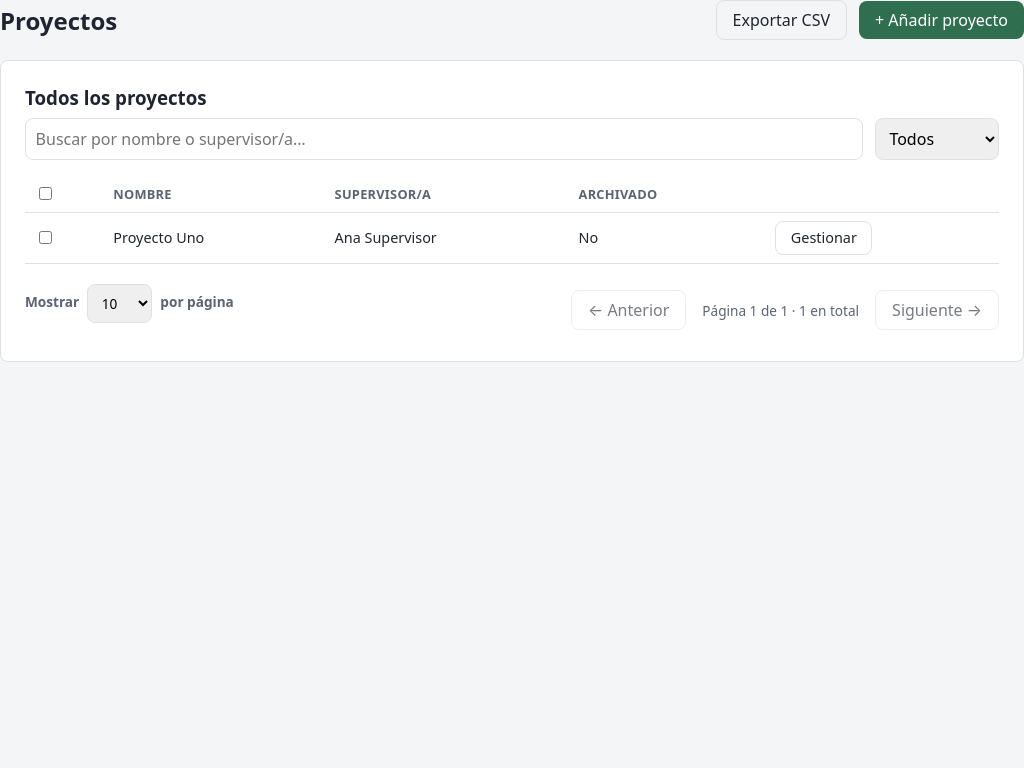
Test: AdminProjects › crea un proyecto nuevo desde el formulario y recarga la lista
The width and height of the screenshot is (1024, 768).
expect the text "Proyecto Uno" is shown: met, box [104,212,325,263]
Step 1. Click the button "+ Añadir proyecto" → [942, 20], box [859,1,1023,39]
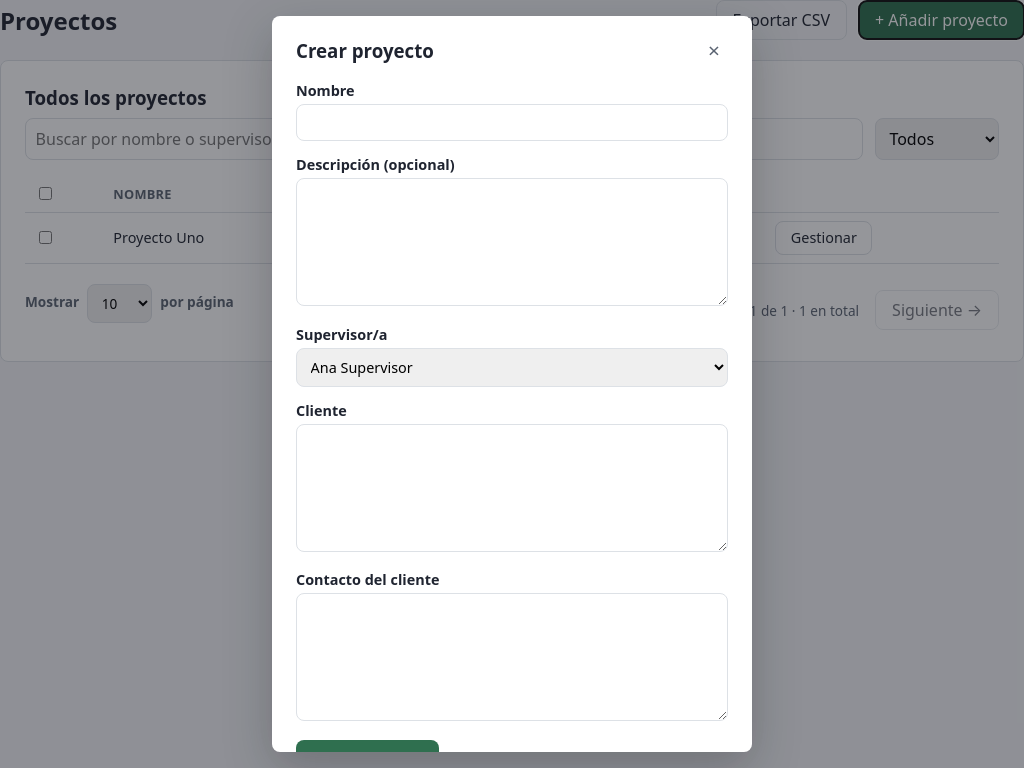
Step 2. Type "Proyecto Nuevo" into the field labelled "Nombre" → [512, 122], box [296,104,728,141]
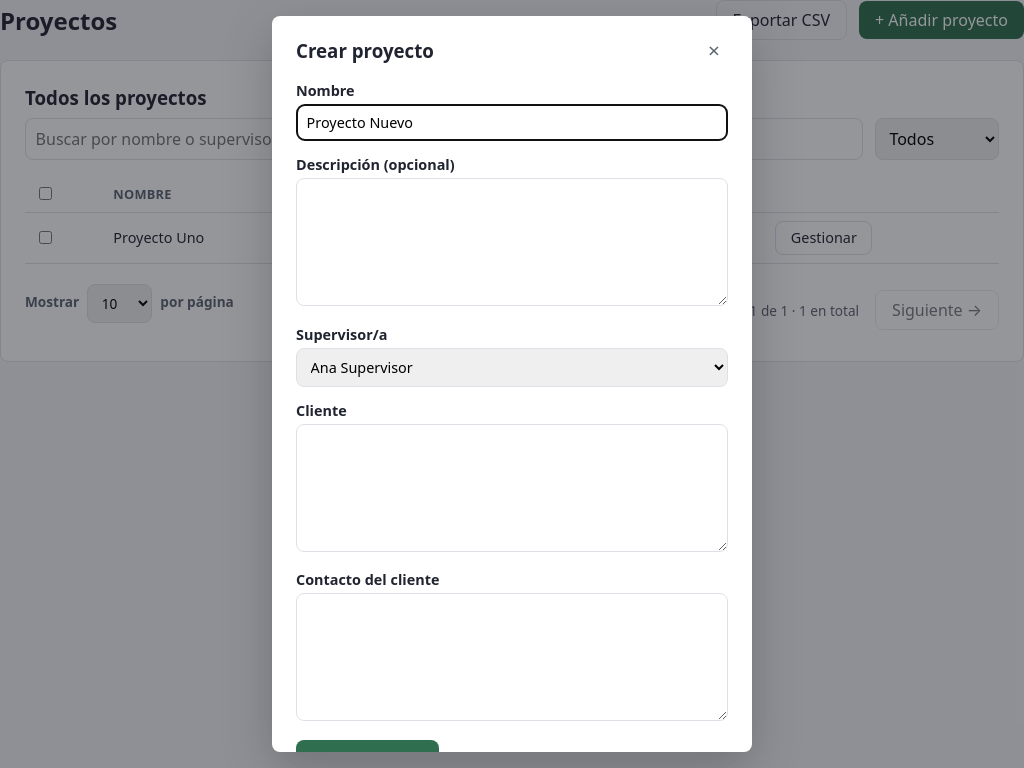
Step 3. Type "Cliente Nuevo" into the text box labelled "Cliente" → [512, 488], box [296,424,728,552]
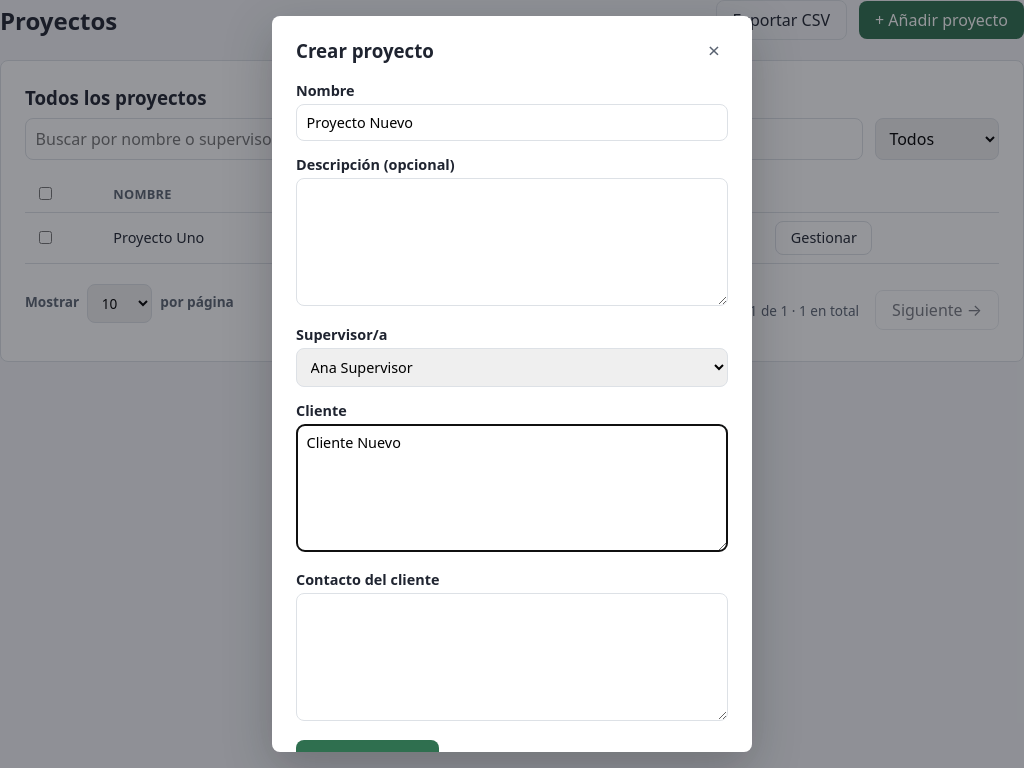
Step 4. Type "contacto@nuevo.test" into the text box labelled "Contacto del cliente" → [512, 657], box [296,593,728,721]
(page scrolled)
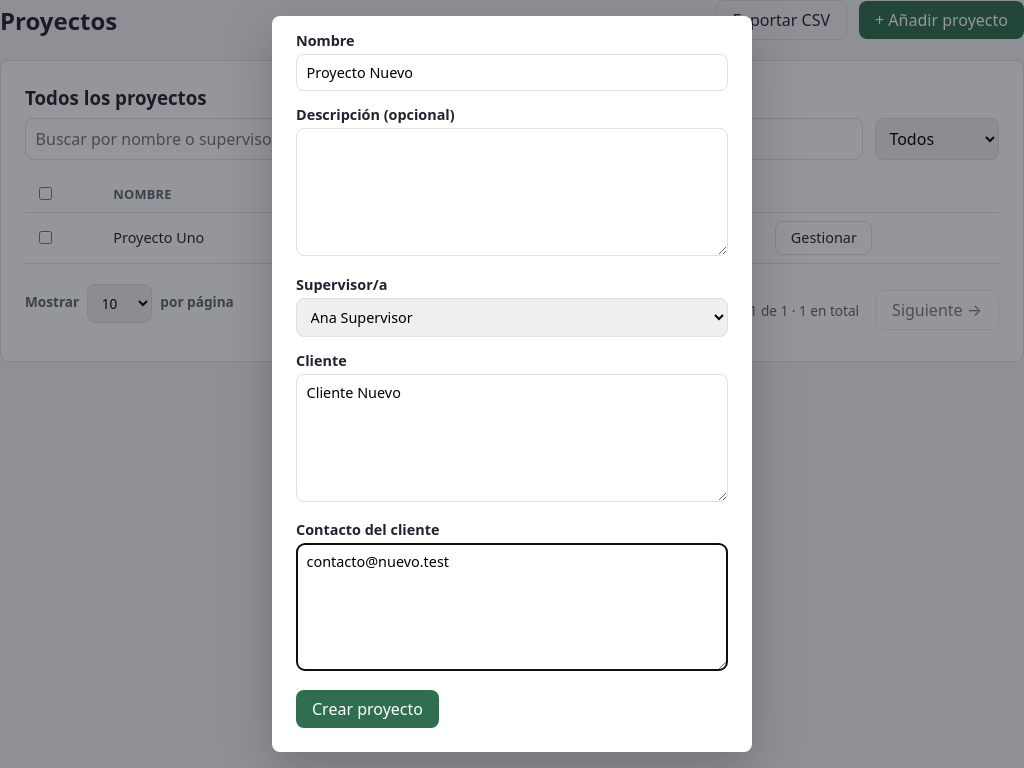
Step 5. Click the button "Crear proyecto" → [368, 709], box [296,690,439,728]
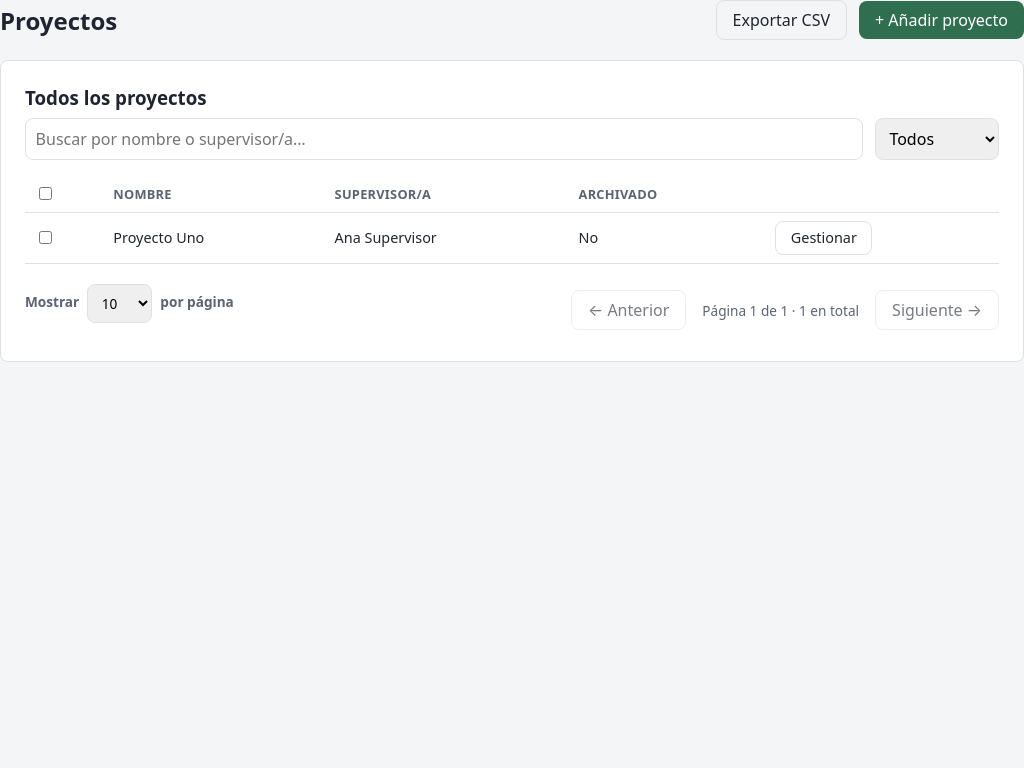
expect the dialog is gone: met
